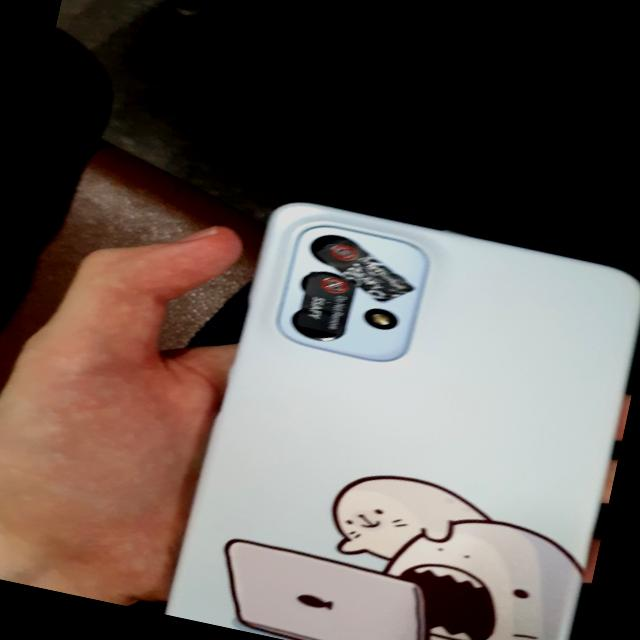phone: (167, 187, 640, 640)
removed_sticker: (306, 233, 416, 303)
sticker: (298, 270, 359, 338)
